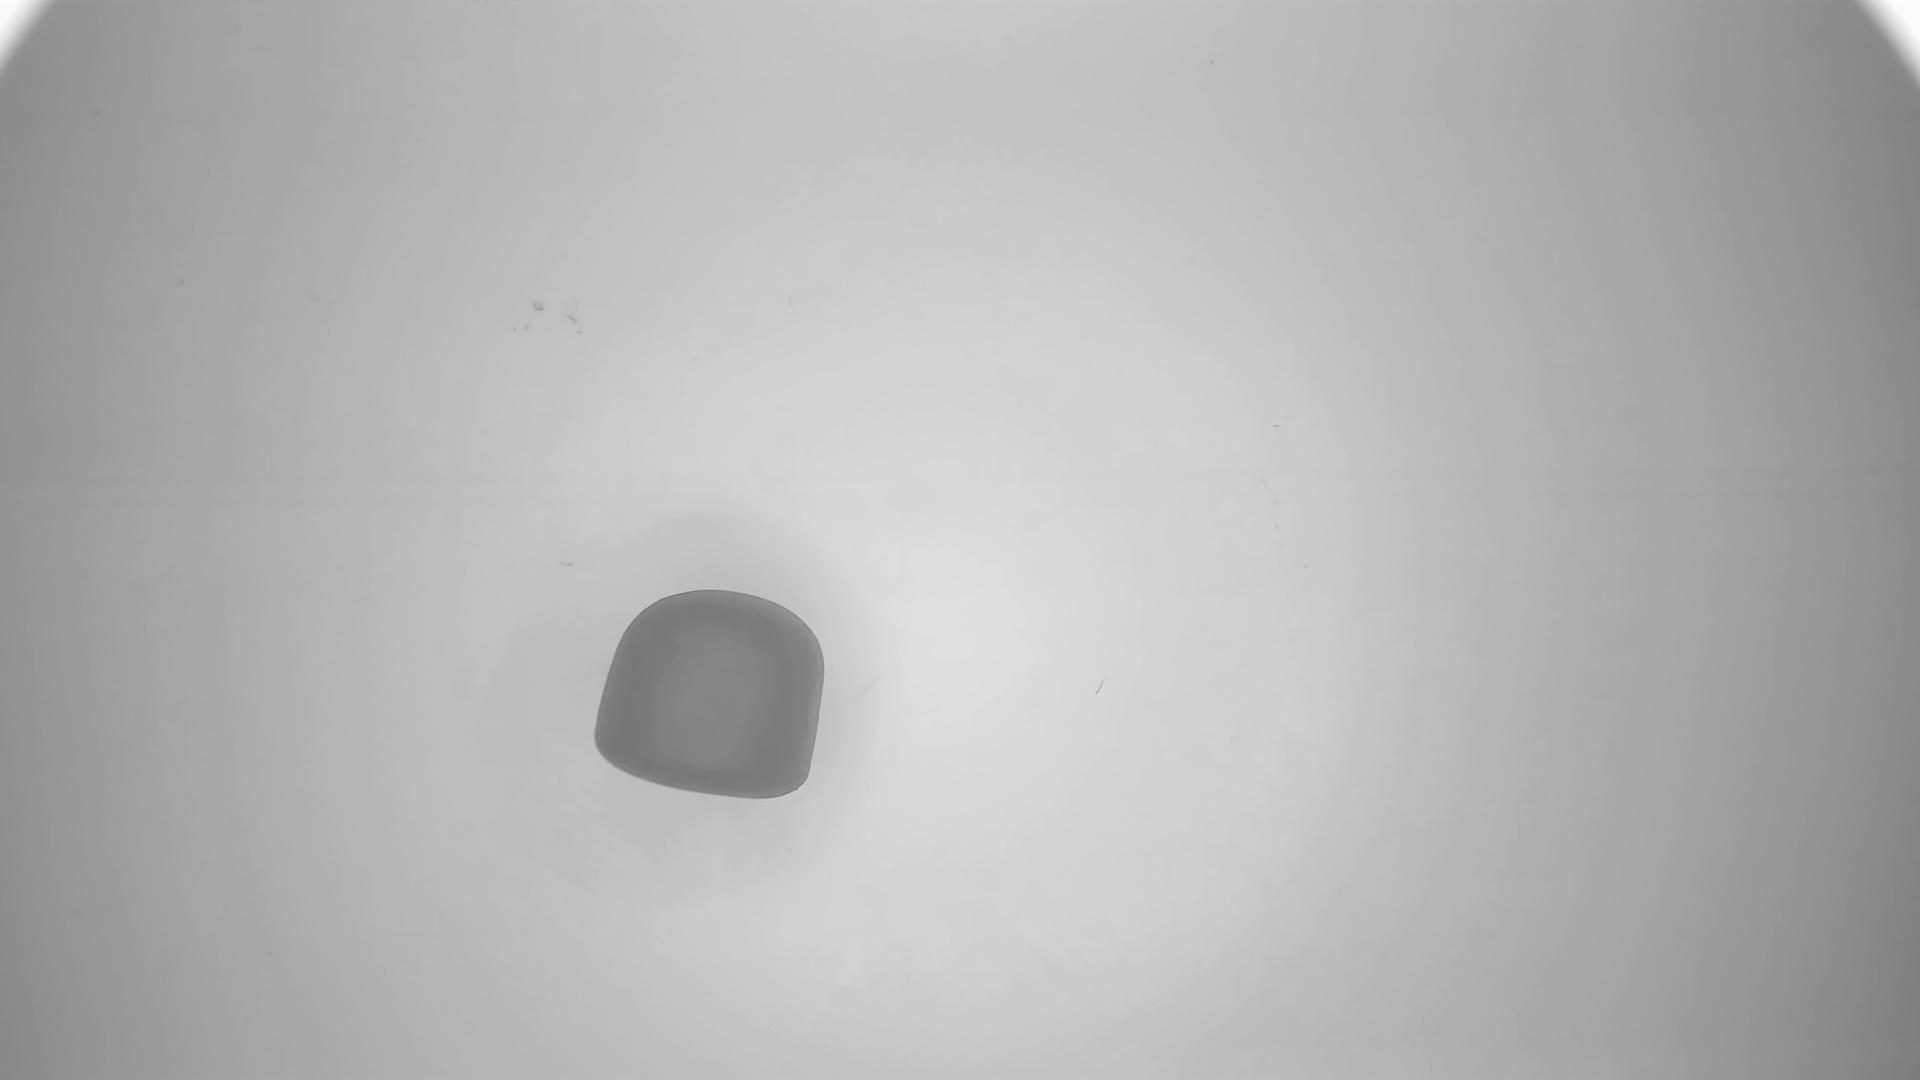normal: (593, 588, 828, 804)
